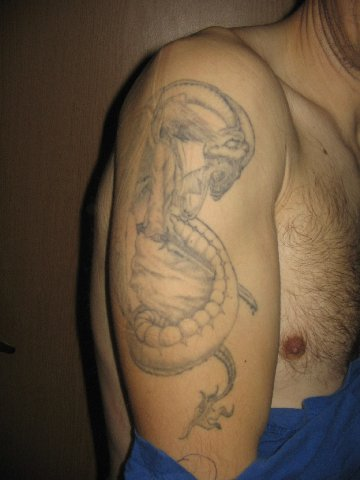tatu7_zmeya: (116, 41, 261, 450)
